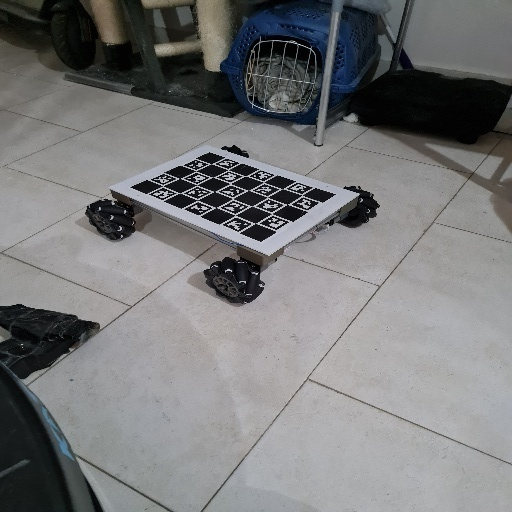Omniwheel: (85, 144, 380, 305)
